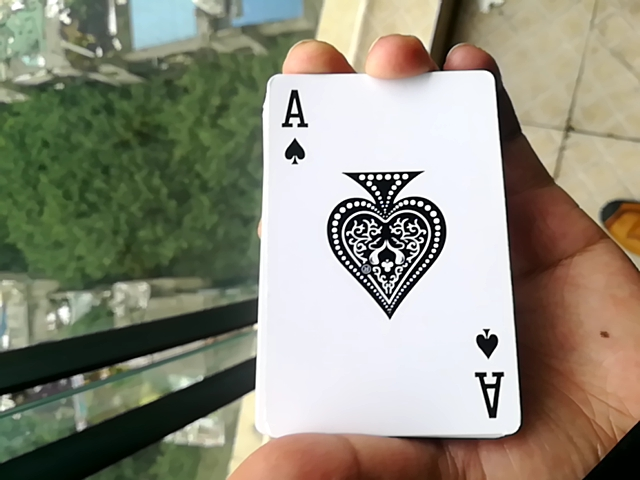ht a: (238, 80, 521, 447)
